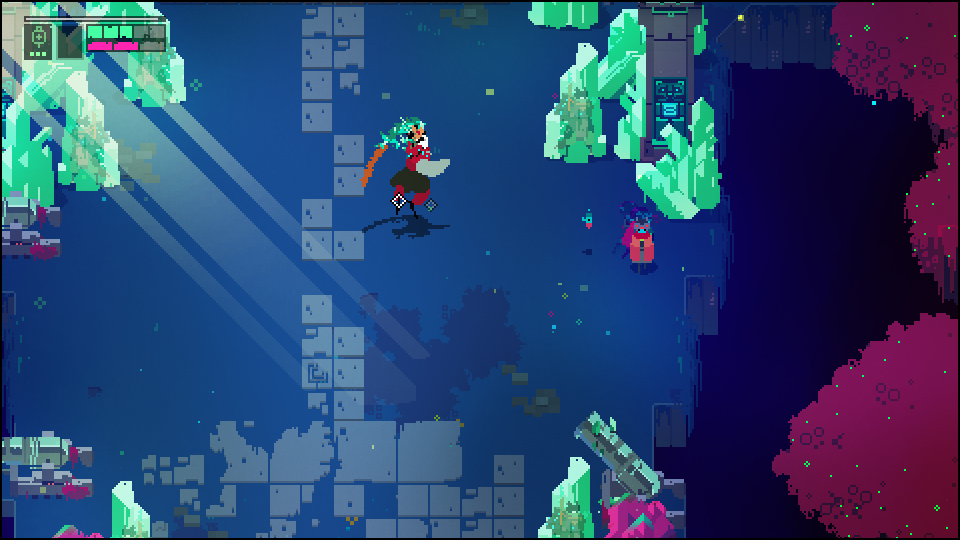hanged_man: (369, 112, 453, 226)
player: (629, 215, 655, 270)
